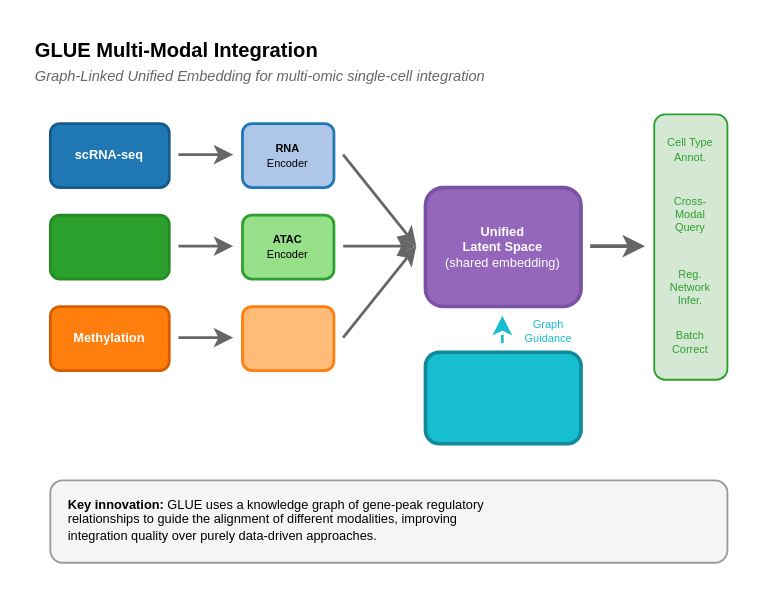
Image size: 759x595. Some labels were removed from this diagram. The box of each missing label's shape, as (x1, y1, x2, y2) in pixels:
Methyl Encoder: (240, 304, 335, 371)
Regulatory Knowledge Graph: (423, 350, 582, 445)
scATAC-seq: (48, 213, 170, 280)
